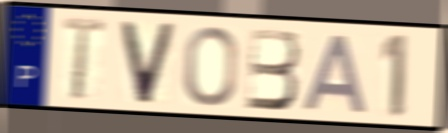1: (378, 31, 408, 121)
A: (301, 31, 372, 116)
B: (245, 26, 302, 113)
O: (181, 24, 240, 108)
T: (61, 14, 108, 103)
V: (118, 19, 179, 106)
